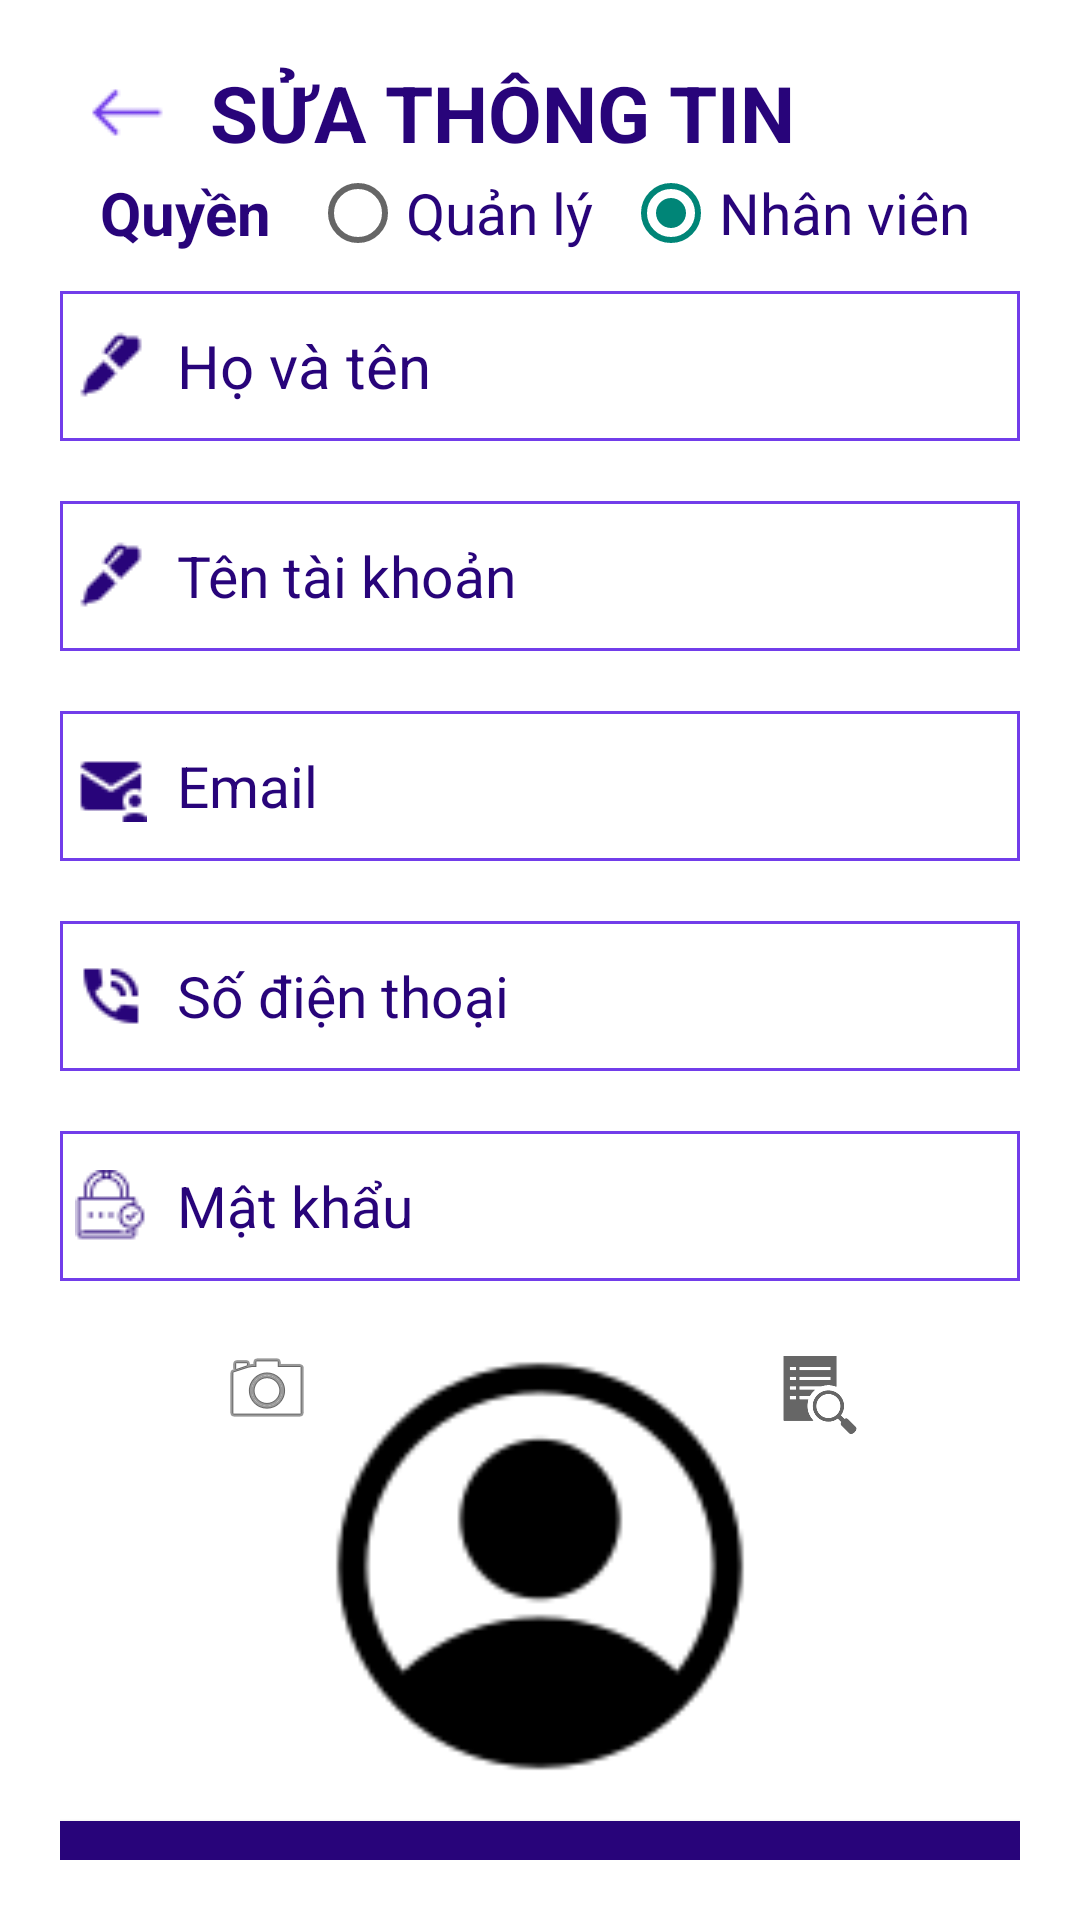

Point at icon controls on the screen. Image size 1080x1920, points as (x,y).
camera: (267,1387)
